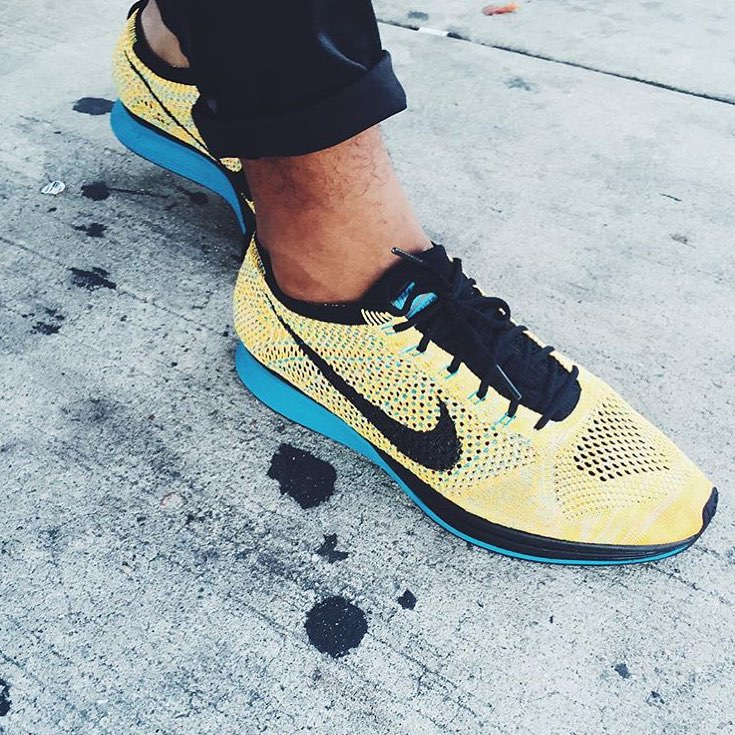sneaker: (202, 120, 735, 593), (90, 2, 317, 260)
